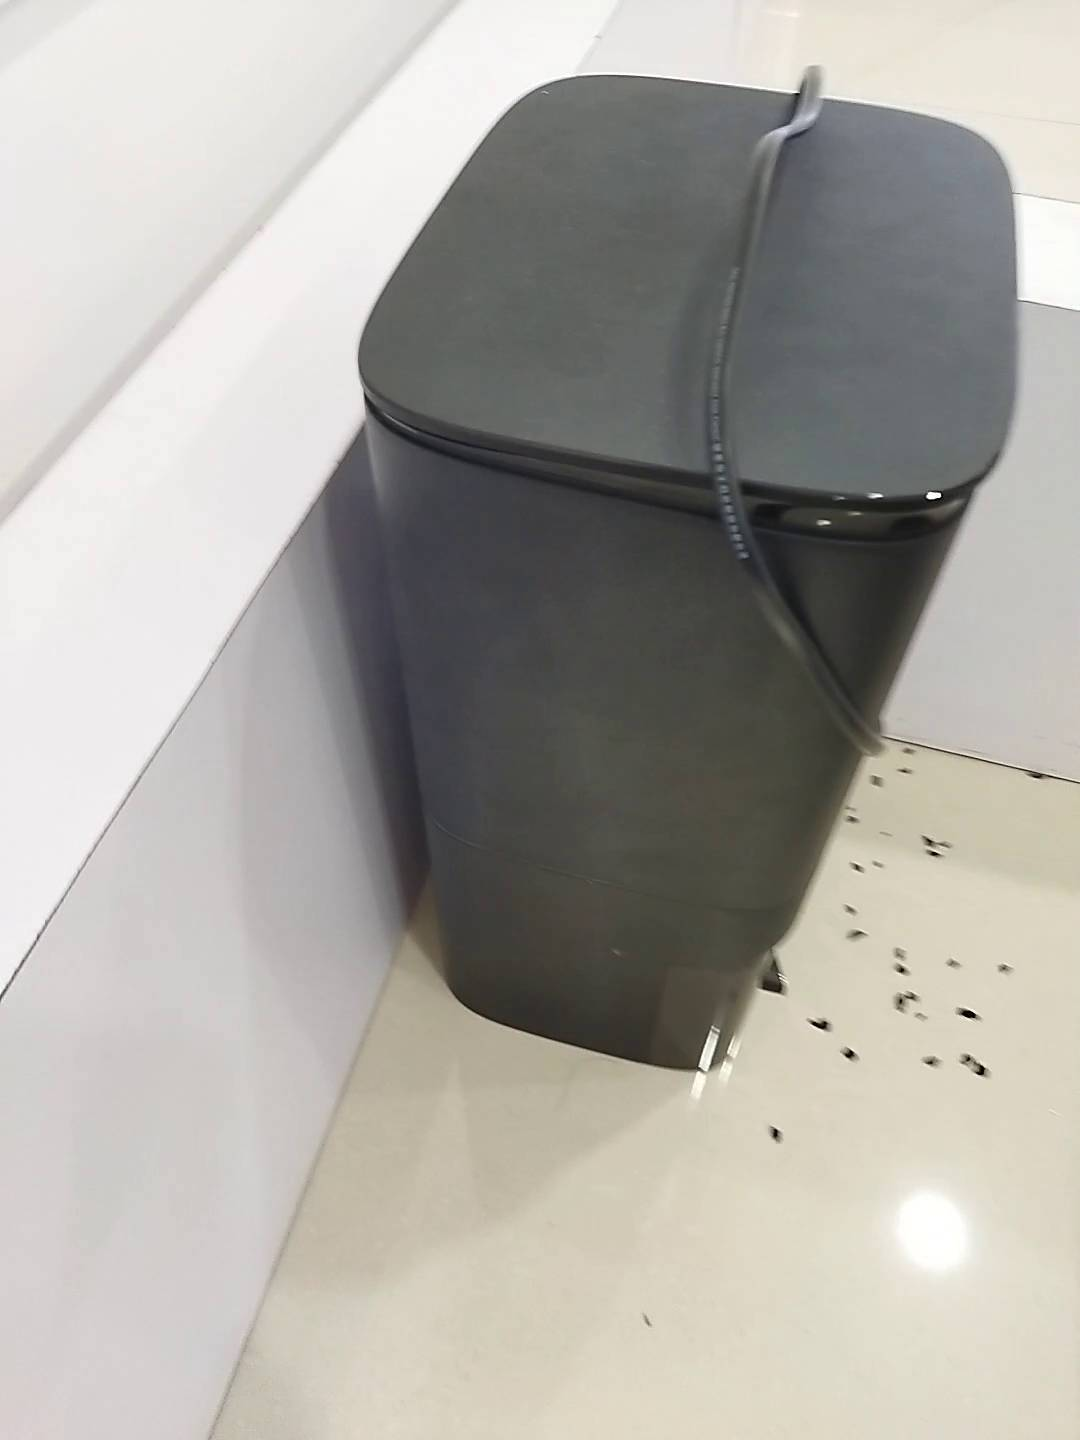dust collecting barrel: (357, 73, 1022, 1076)
